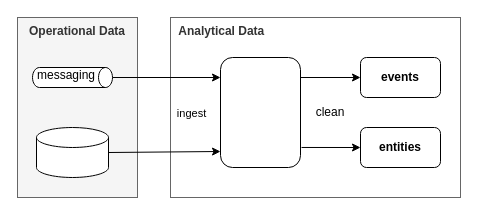
Image size: 478x215. Some labels were removed from this diagram. The shapes that lost their labels are listed below. From the top down, each one's centre as x and y in pixels, then its label:
pixel 260 112: raw
pixel 72 152: database
